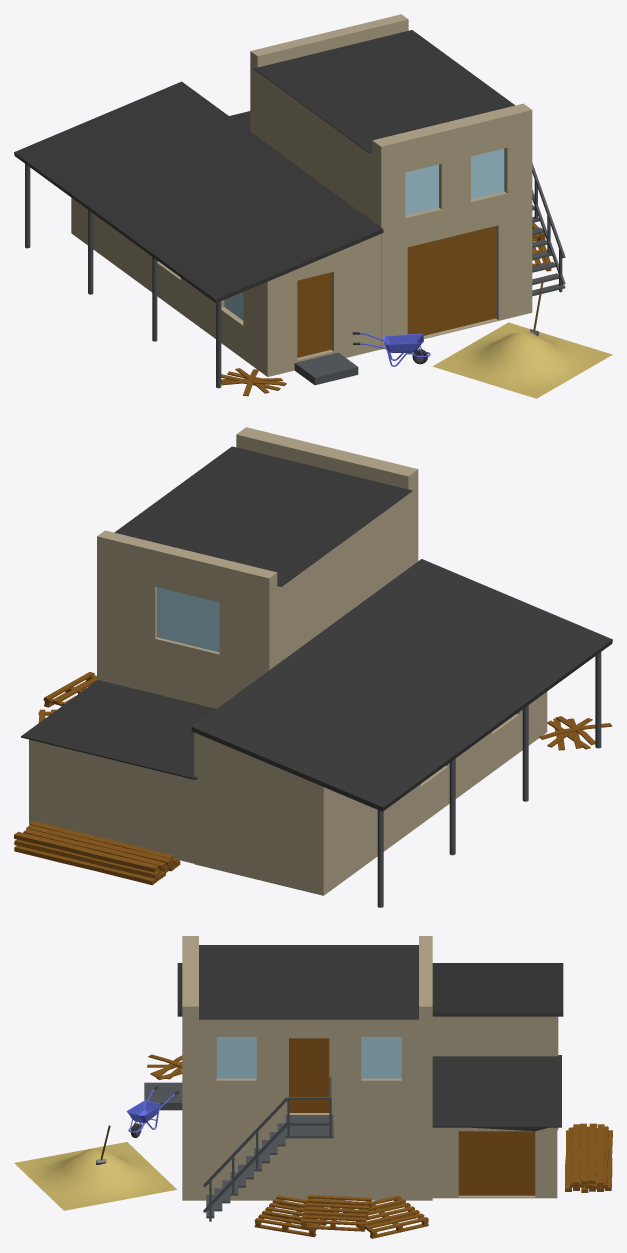
Rendered from builder_house.fbx.
3 renders of one model, top to bottom at view 1: azimuth 30°, elevation 25°; view 2: azimuth 150°, elevation 25°; view 3: azimuth 270°, elevation 25°, orthographic. The views are drawn at different scales.
Visible parts, largest first — view 1: builder_house, sand, wheelbarrow, debris; view 2: builder_house, planks, debris, palette; view 3: builder_house, sand, palette, planks, wheelbarrow, debris.
Boxes of the visible parts, left/top/right/bottom form: builder_house: left=14, top=14, right=565, bottom=388; sand: left=432, top=322, right=612, bottom=398; wheelbarrow: left=352, top=332, right=430, bottom=366; debris: left=221, top=368, right=286, bottom=396; builder_house: left=21, top=427, right=612, bottom=907; planks: left=14, top=821, right=180, bottom=885; debris: left=539, top=716, right=612, bottom=750; palette: left=38, top=672, right=96, bottom=722; builder_house: left=144, top=936, right=563, bottom=1221; sand: left=14, top=1142, right=176, bottom=1210; palette: left=254, top=1195, right=428, bottom=1238; planks: left=565, top=1123, right=612, bottom=1192; wheelbarrow: left=126, top=1086, right=179, bottom=1137; debris: left=147, top=1054, right=182, bottom=1079.
Size of the model in its own units: 1105 by 536 by 1490.
